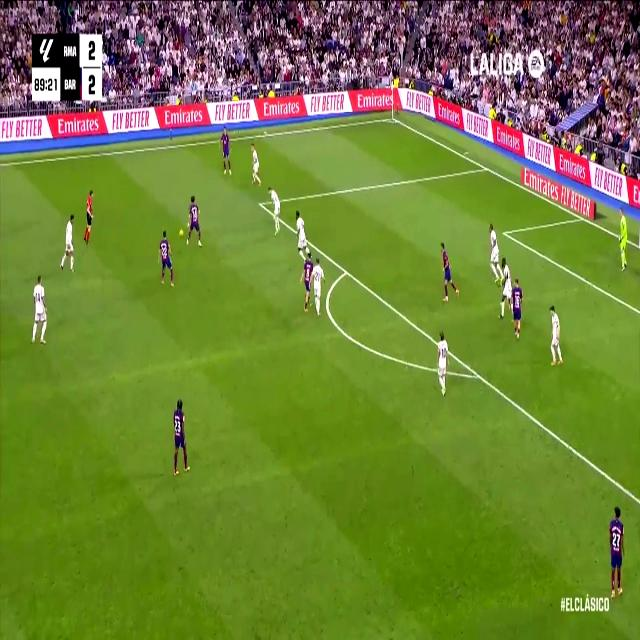bigarea_bottom_outter: (578, 212, 584, 224)
bigarea_top_inner: (256, 194, 265, 212)
bigarea_top_outter: (481, 160, 489, 174)
bottom_arc_area_intersection: (472, 362, 483, 387)
corner: (388, 112, 398, 123)
smallarea_top_inner: (500, 223, 509, 241)
top_arc_area_intersection: (341, 260, 351, 281)
